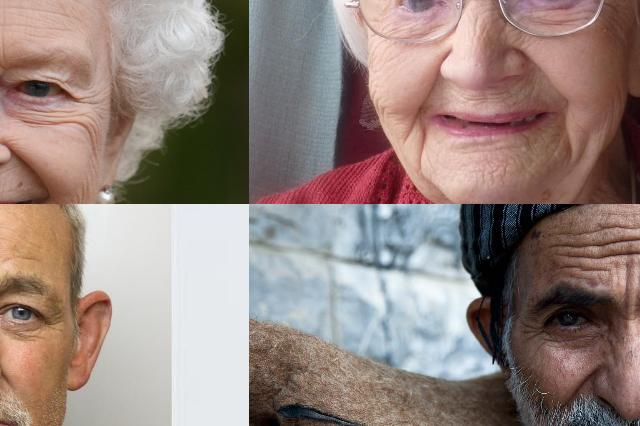bunny_line: (468, 14, 484, 40)
chin: (476, 160, 502, 182)
crows_feet: (75, 88, 99, 136), (41, 308, 65, 338), (518, 317, 544, 342)
forehead: (15, 6, 80, 42), (592, 224, 624, 262), (555, 234, 589, 268), (14, 244, 41, 266), (629, 220, 640, 266)
frown_line: (620, 277, 634, 309)
gummy_smile: (520, 46, 572, 98), (14, 151, 48, 192), (417, 54, 441, 107), (570, 367, 592, 407)
masseter: (71, 174, 93, 204), (608, 86, 622, 128), (371, 90, 389, 118)
sad_smile: (405, 115, 433, 165), (558, 124, 580, 166)
smoker_lines: (454, 89, 516, 111)
